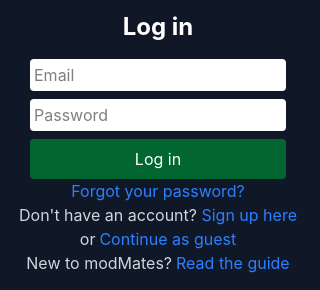
Test: switches to signup form
This screenshot has width=320, height=290.
What coordinates should you click on to do the following:
click the button "Sign up here"
I would click on:
 (249, 215)
Its box is [202, 203, 297, 227].
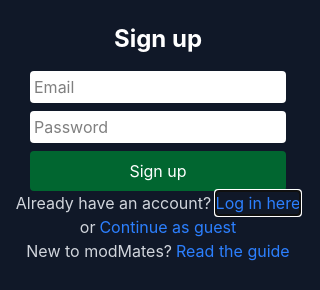
Check: the heading reads "Sign up", box [114, 24, 202, 53]
Check: the button "Sign up" is shown, box [30, 151, 286, 191]
